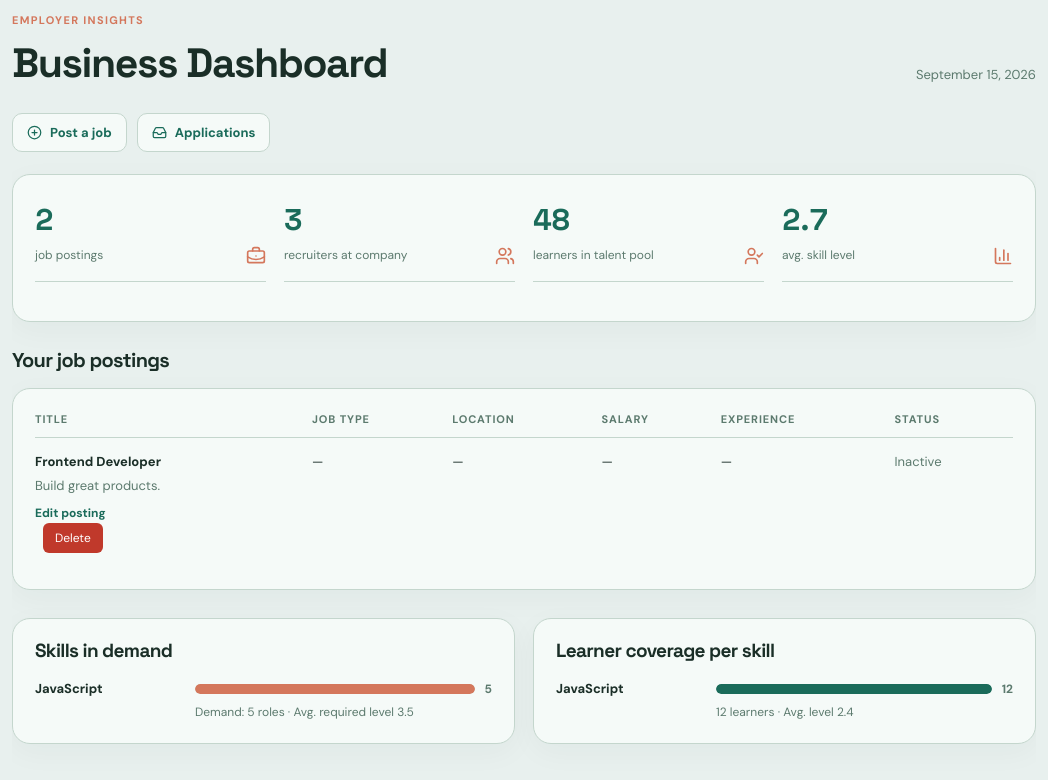
Test: BusinessDashboardPage › shows a toast when deletion fails and keeps the row
The width and height of the screenshot is (1048, 780).
Expected: the text "Frontend Developer" is shown, [35, 453, 161, 470]
Click the button "Delete" at [73, 538], box [43, 523, 103, 553]
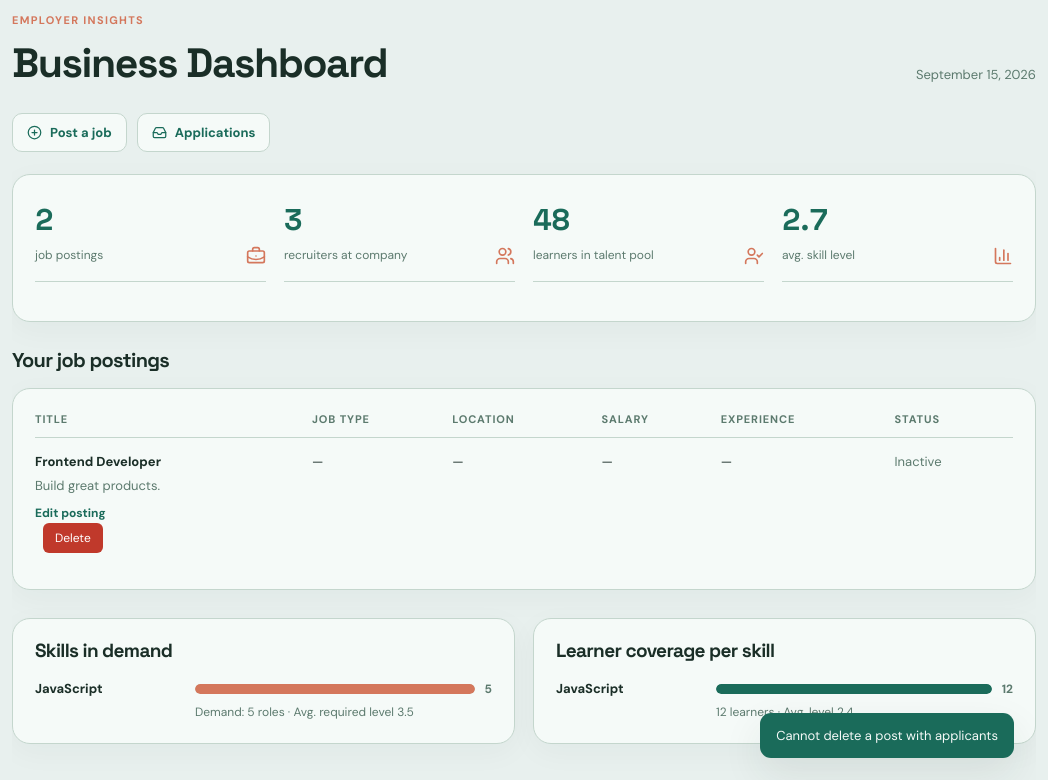
Expected: the text "Frontend Developer" is shown, [35, 453, 161, 470]
Result: the text "Cannot delete a post with applicants" is shown at [760, 712, 1014, 758]
